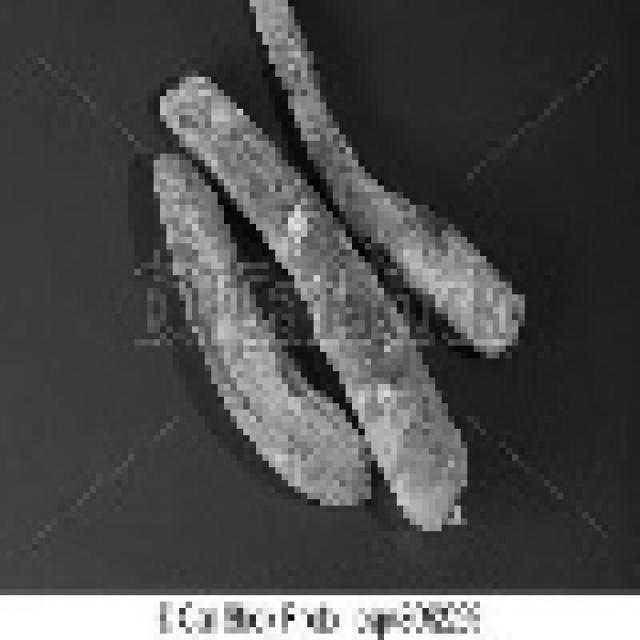Stale_Carrot: (169, 77, 477, 533), (241, 0, 520, 366), (140, 153, 381, 519)
